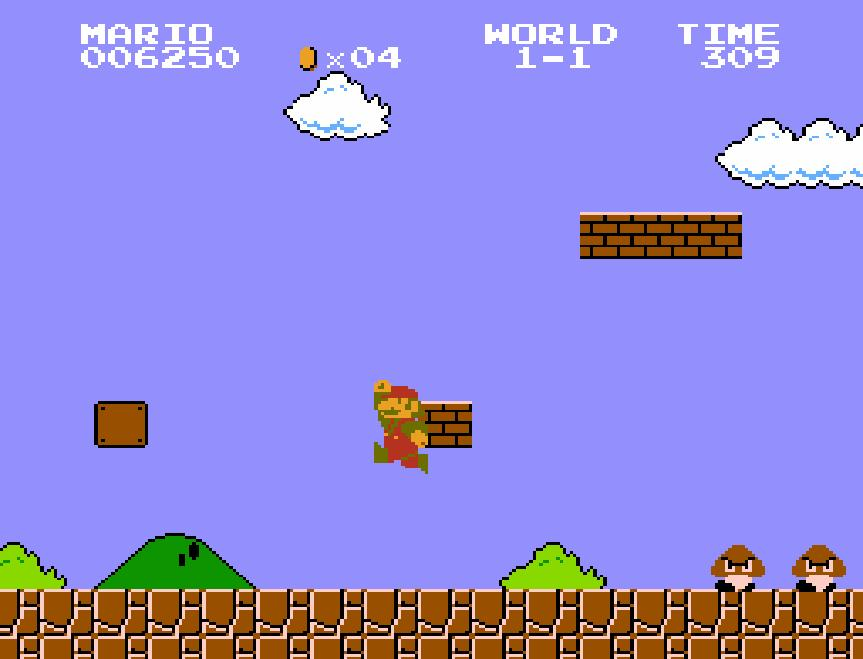big_mario: (372, 378, 430, 476)
